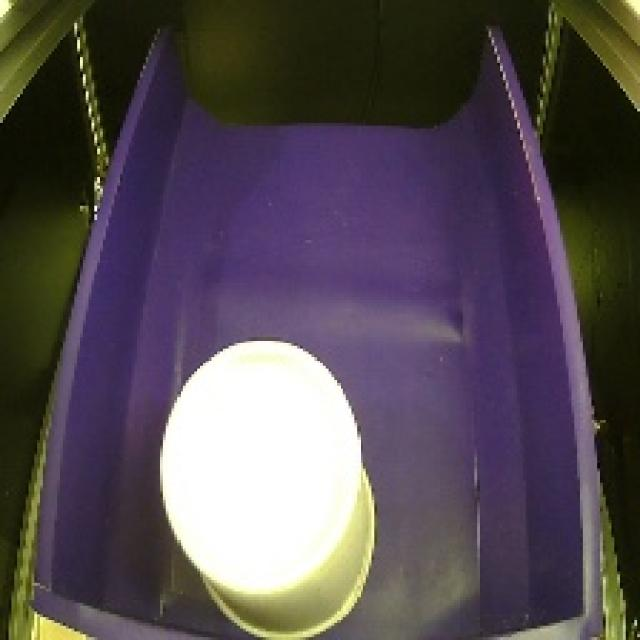cups: (151, 324, 384, 638)
